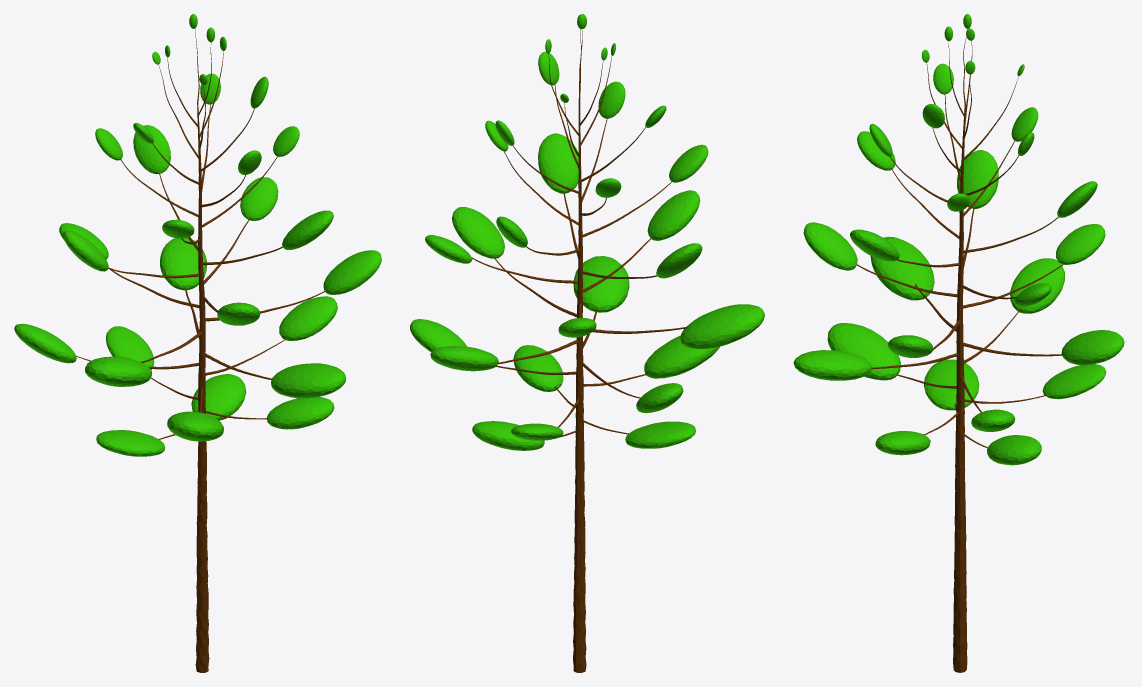
Rendered from Drezwko 2.0 do exportu.fbx.
3 renders of one model, left to right at view 1: azimuth 30°, elevation 25°; view 2: azimuth 150°, elevation 25°; view 3: azimuth 270°, elevation 25°, orthographic.
Parts seen in each view (by area): view 1: tree; view 2: tree; view 3: tree.
Part boxes in pixels (x1,y1,x2,y2): tree: (14,14,381,672); tree: (410,14,764,672); tree: (793,14,1124,672).
Bounding box in the file's own units: 830 × 1743 × 808.
